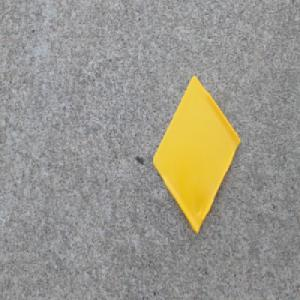PlasticPart: (152, 73, 242, 235)
